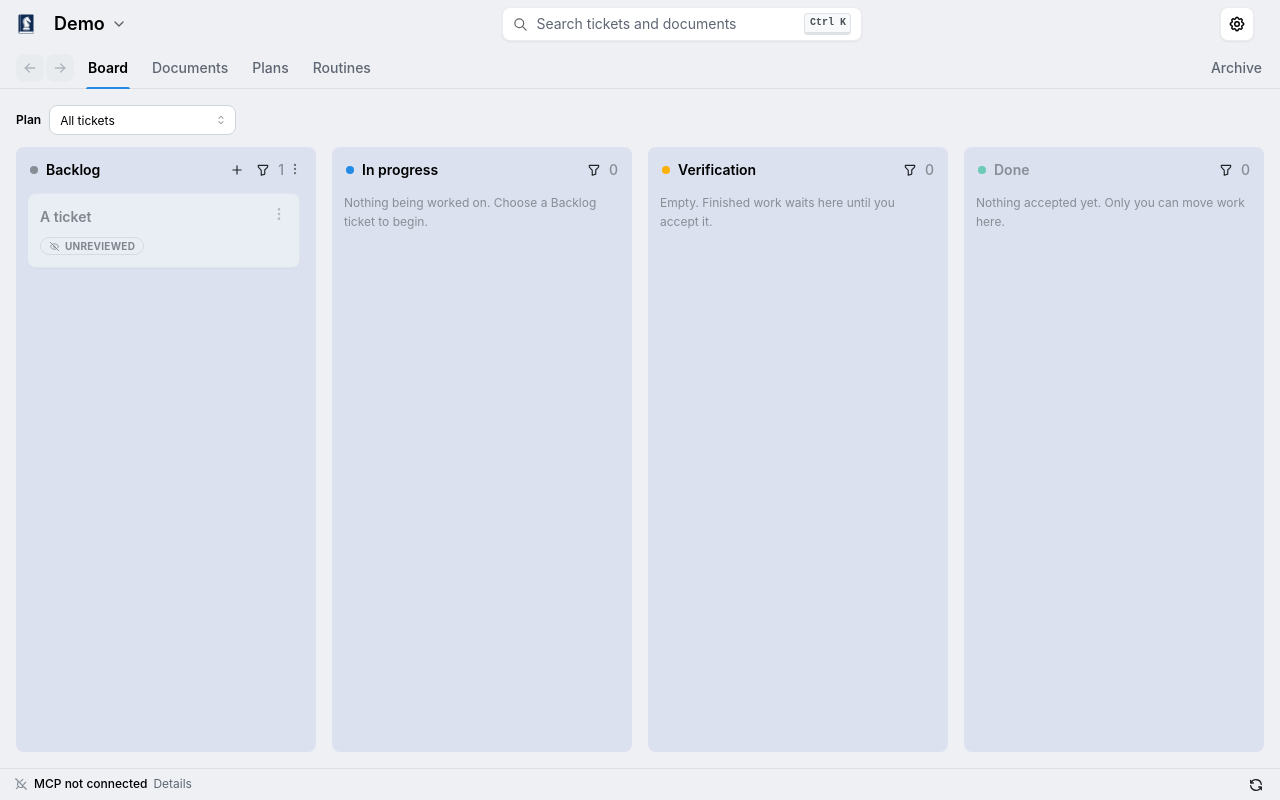
choosing a type › explains a conflict and shows the current version instead of guessing
Click the text "A ticket": (66, 216) [40, 208, 91, 225]
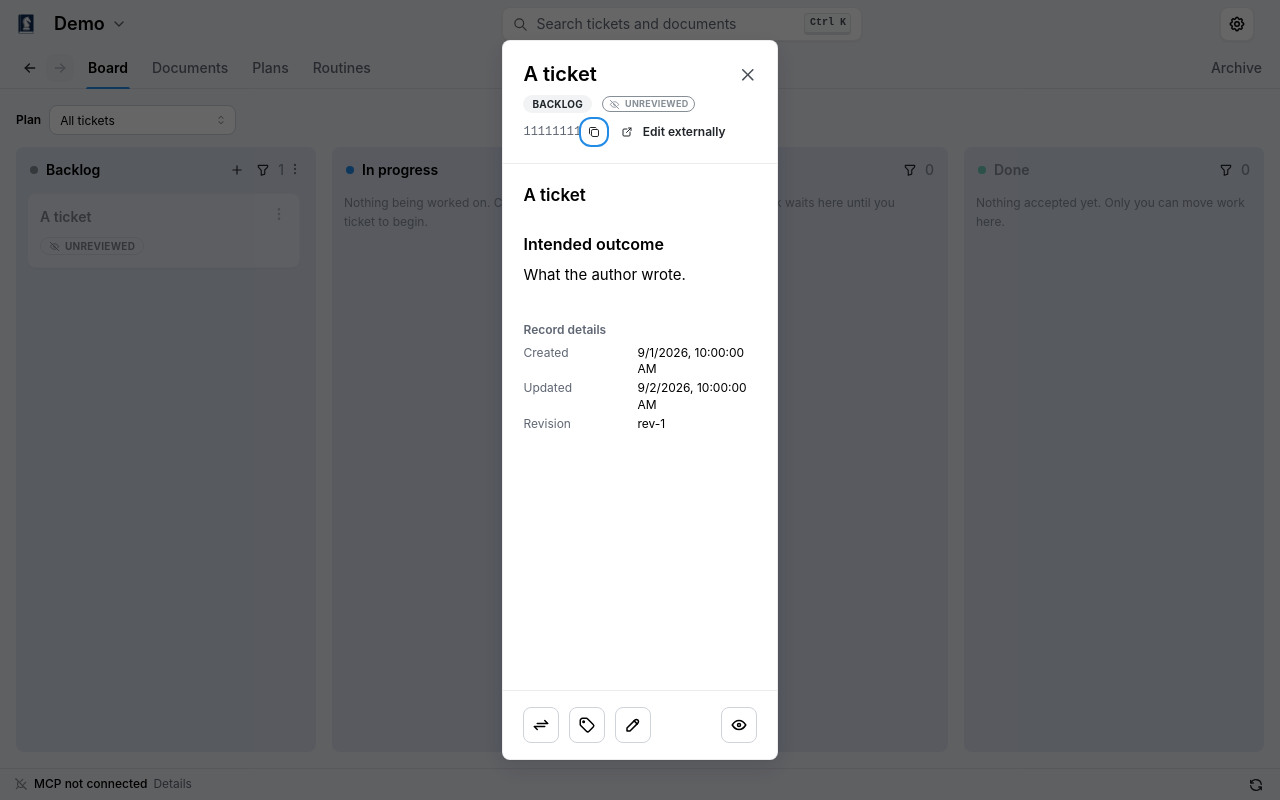
Click the button named "type": (588, 725) [570, 707, 606, 743]
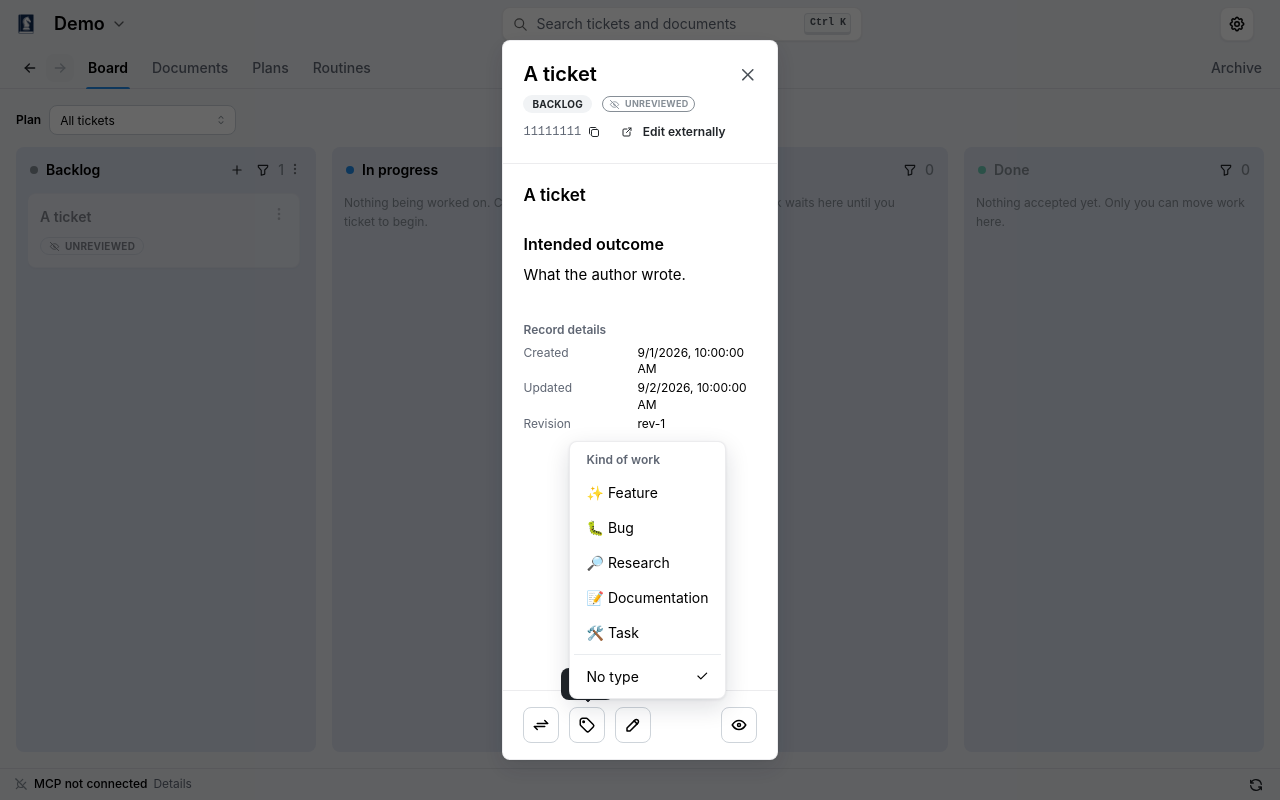
Click the menu item "🐛 Bug": (648, 528) [574, 510, 720, 545]
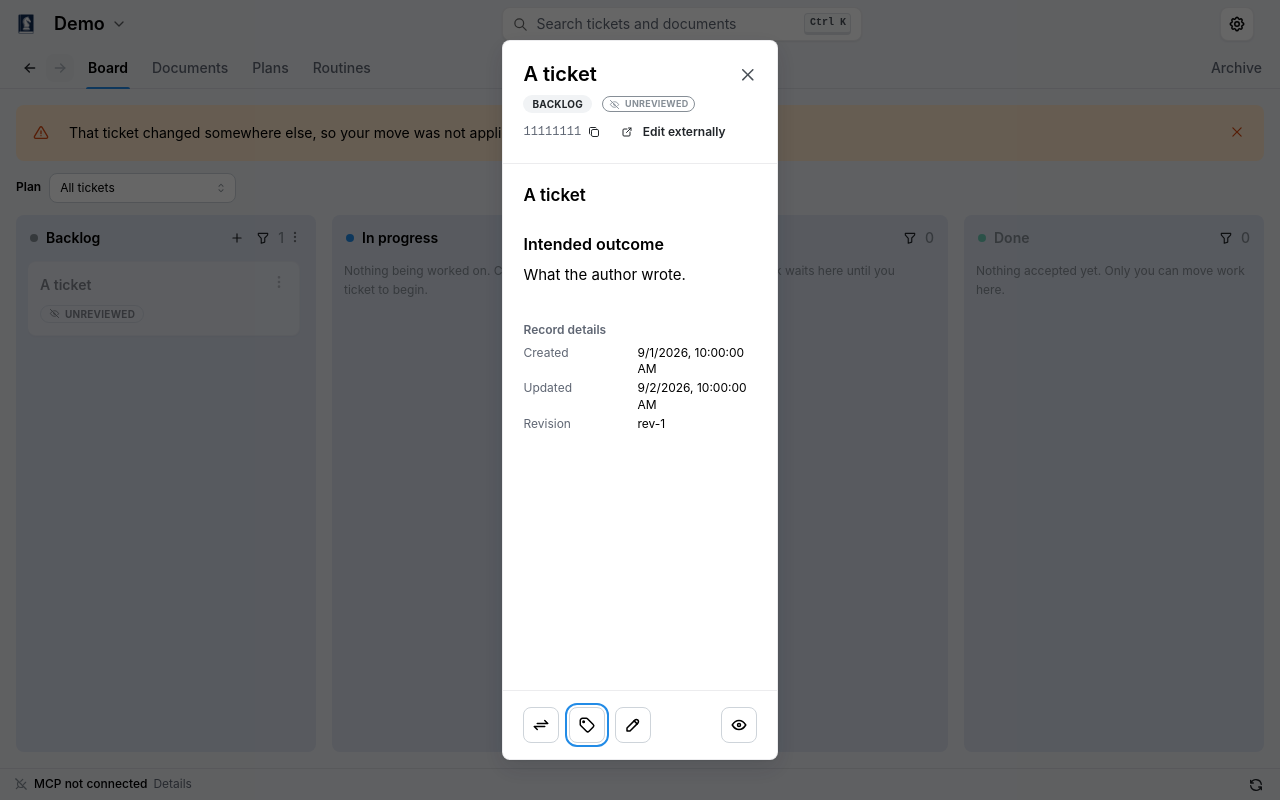
Check: the text "changed somewhere else" is shown, box [69, 124, 702, 141]
